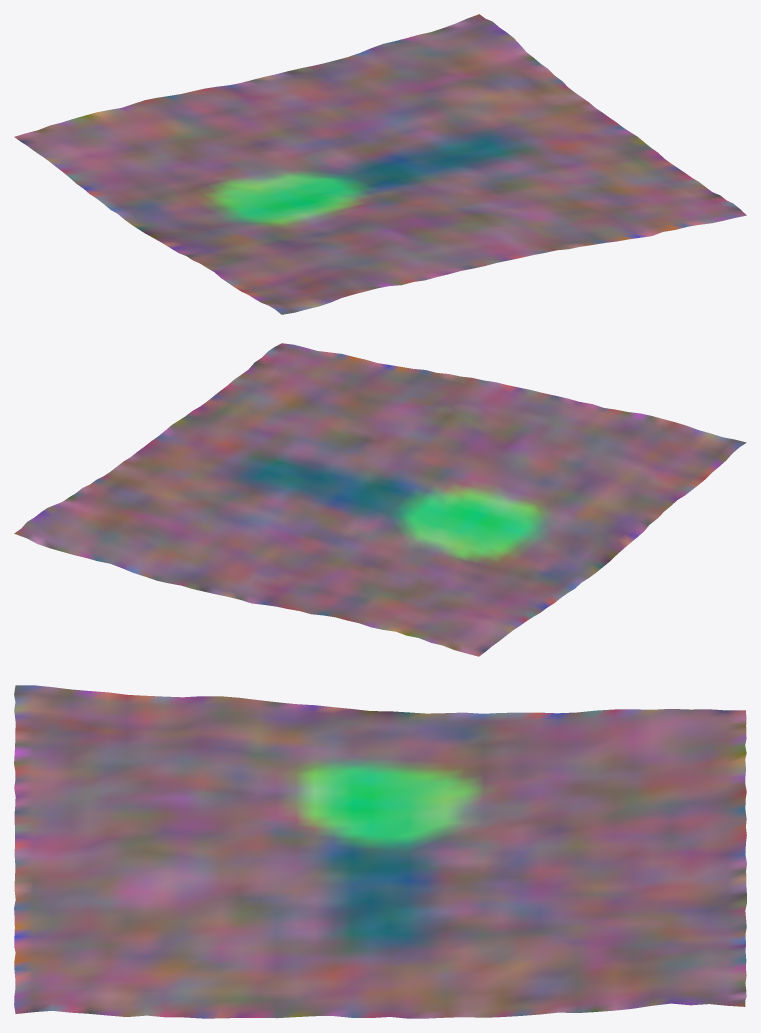
The model's file is SM_Floor_1.fbx.
The picture shows the model from 3 angles, top to bottom: view 1: azimuth 30°, elevation 25°; view 2: azimuth 150°, elevation 25°; view 3: azimuth 270°, elevation 25°; orthographic projection. The views are drawn at different scales.
Visible parts, largest first — view 1: normal1; view 2: normal1; view 3: normal1.
Part boxes in pixels (x1,y1,x2,y2): normal1: [14, 14, 746, 314]; normal1: [14, 343, 746, 656]; normal1: [14, 685, 746, 1018].
Size of the model in its own units: 40.09 by 2.01 by 40.09.
